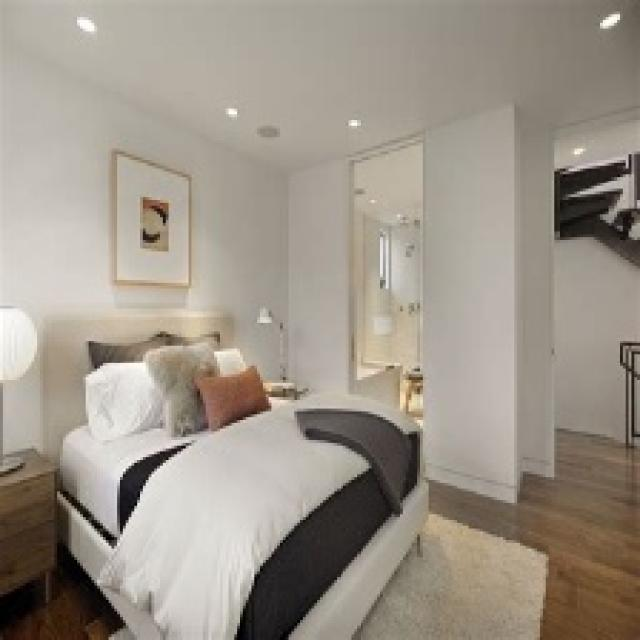Bed: (40, 312, 429, 637)
